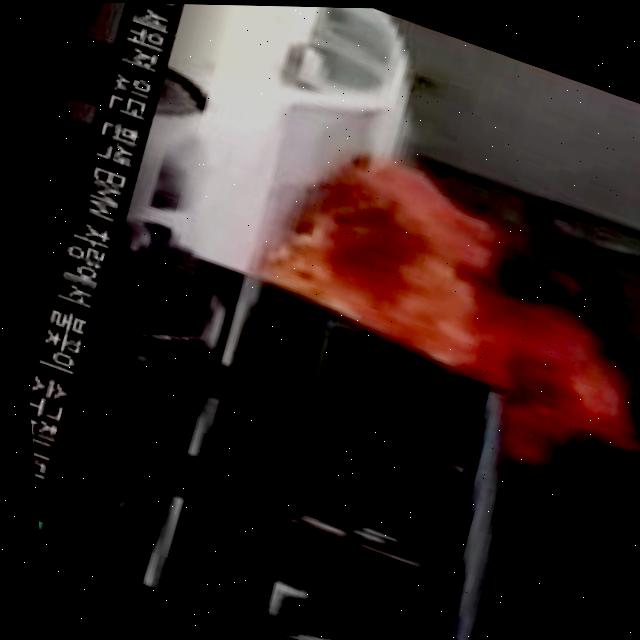Fire: (226, 139, 640, 477)
